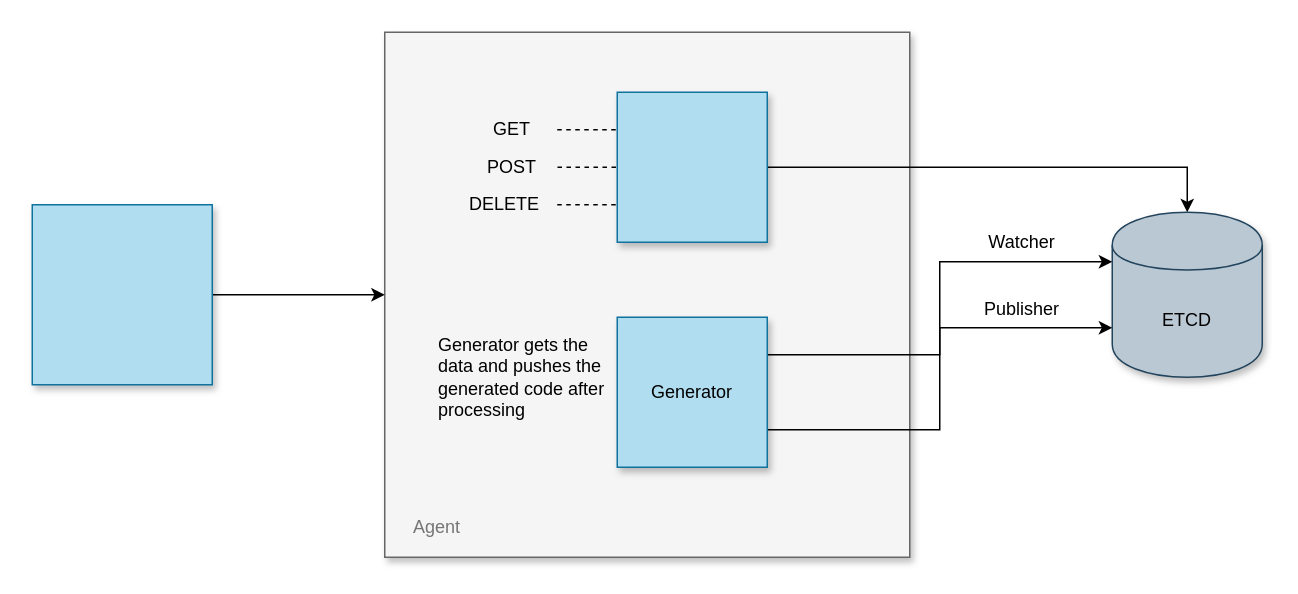
This 1298x594 diagram has some shape labels left out. The centre of each missing label's shape, as x and y in pixels:
"Backend (restapi)" goes at point (693, 169).
"UI" goes at point (123, 296).
